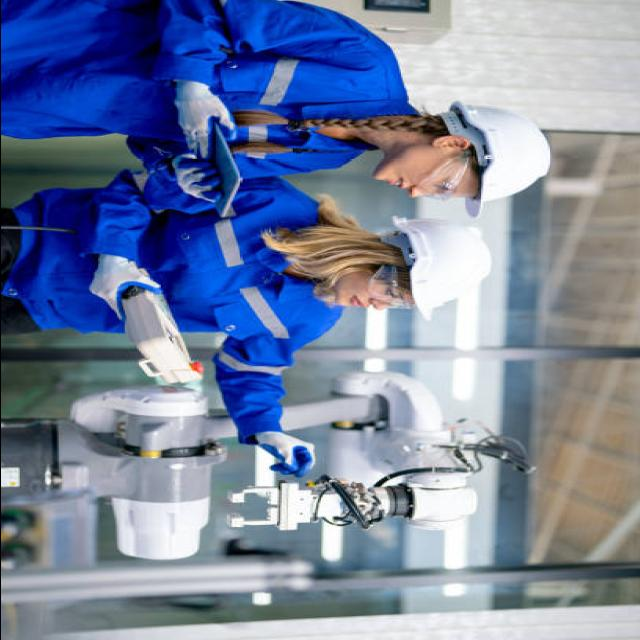Robotic-arm: (66, 384, 492, 561)
